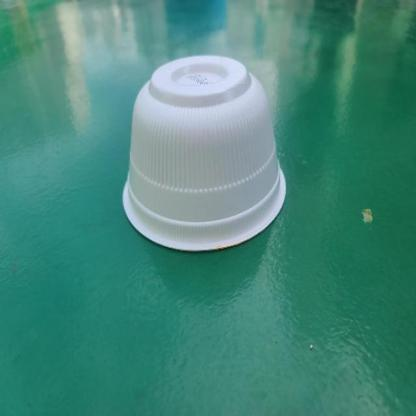Glass Cup: (122, 56, 286, 253), (123, 55, 285, 250)
